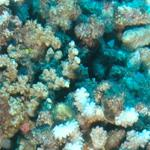alive: (4, 1, 147, 146)
